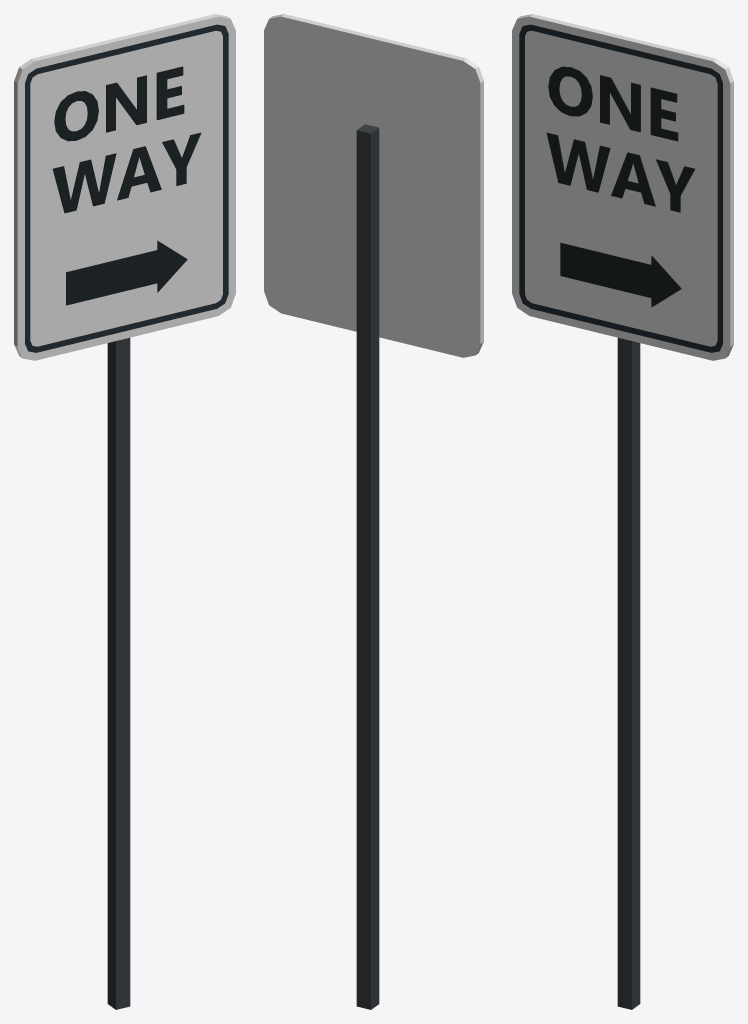
The model's file is SM_FloorProps_RoadSign_19.fbx.
3 views of the same model, side by side, from view 1: azimuth 30°, elevation 25°; view 2: azimuth 150°, elevation 25°; view 3: azimuth 330°, elevation 25° (orthographic).
Parts seen in each view (by area): view 1: SM_FloorProps_RoadSign_19; view 2: SM_FloorProps_RoadSign_19; view 3: SM_FloorProps_RoadSign_19.
Part boxes in pixels (bbox=[...]): SM_FloorProps_RoadSign_19: bbox=[14, 14, 235, 1009]; SM_FloorProps_RoadSign_19: bbox=[264, 14, 483, 1009]; SM_FloorProps_RoadSign_19: bbox=[512, 14, 733, 1009].
Bounding box in the file's own units: 0.6461 × 2.75 × 0.0634.
